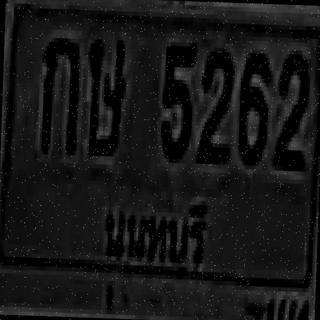A01: (39, 33, 78, 151)
A39: (84, 35, 123, 152)
N02: (272, 50, 307, 167), (197, 45, 231, 158)
N05: (159, 42, 193, 159)
N06: (236, 48, 268, 162)
P37: (97, 182, 215, 279)
